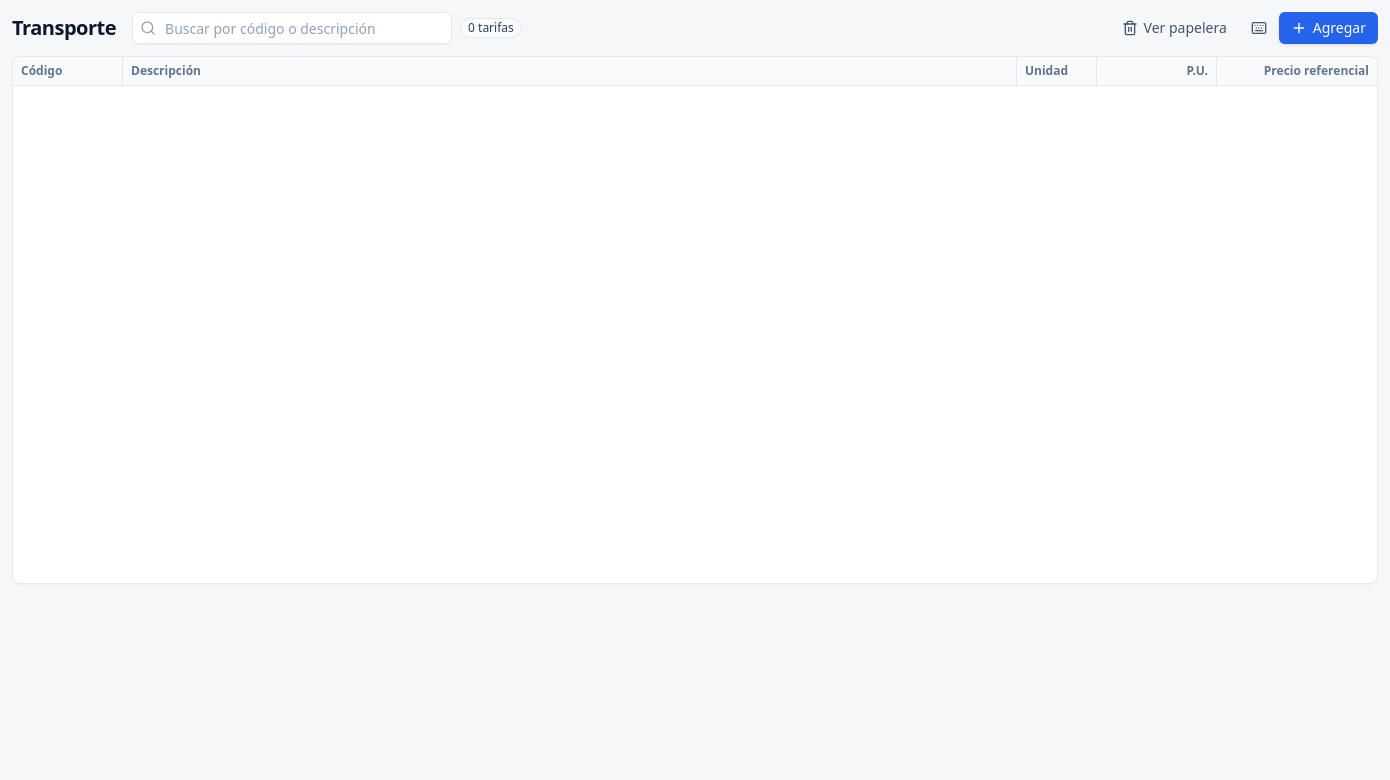
Test: Agregar abre el formulario de alta y Ver papelera cambia de vista
Step 1. Click the button "Agregar" → [1328, 28], box [1279,12,1378,44]
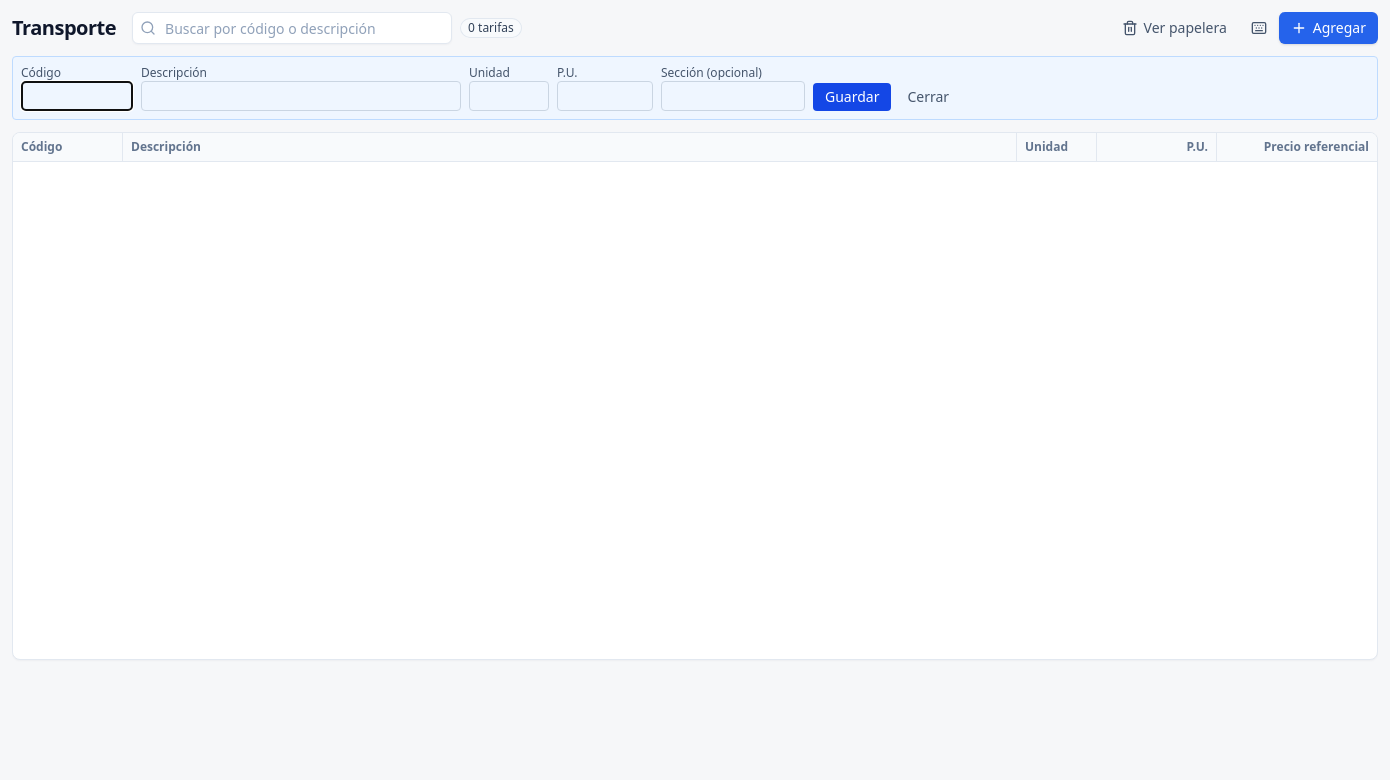
Expected: the form named "Agregar" is shown, [12,56,1378,120]
Step 2. Click the button "Ver papelera" → [1174, 28], box [1110,12,1239,44]
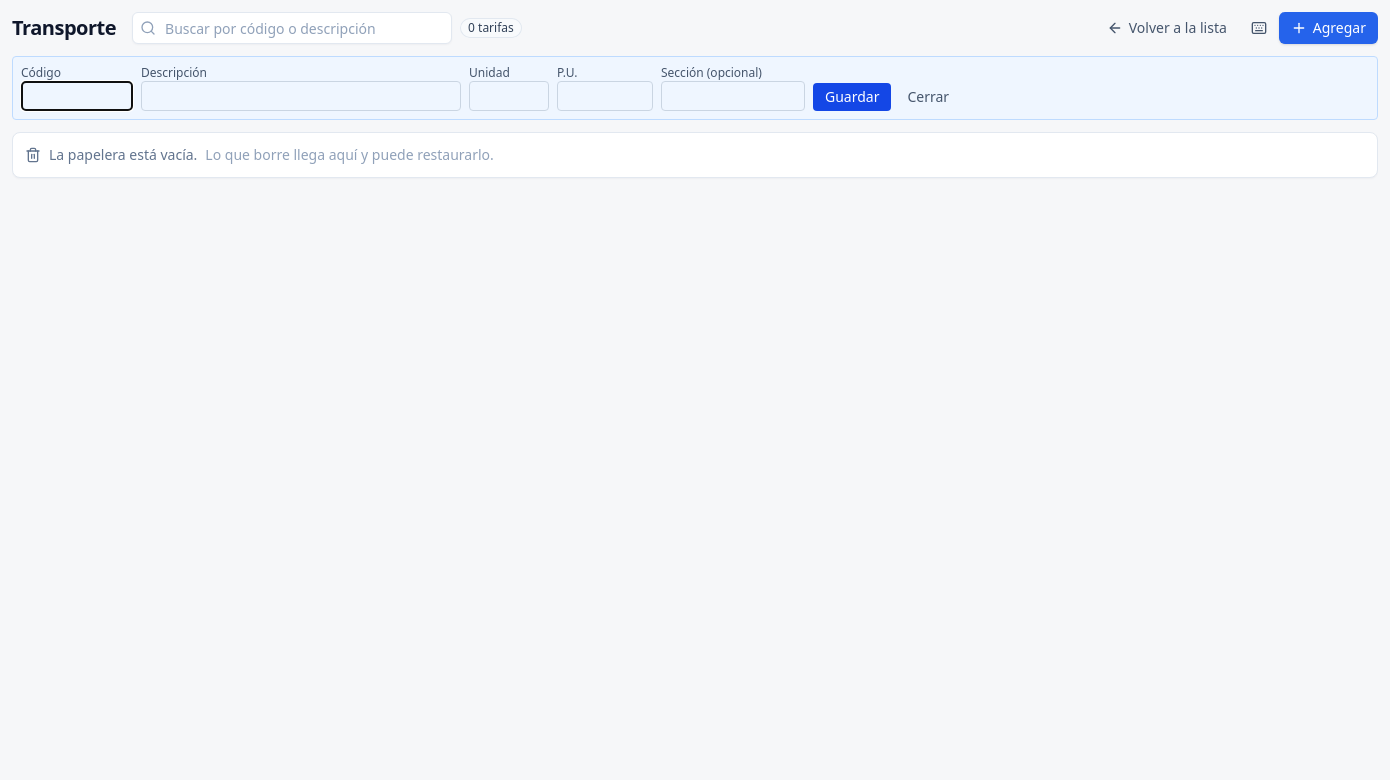
Expected: the text "La papelera está vacía." is shown, [49,145,197,165]
